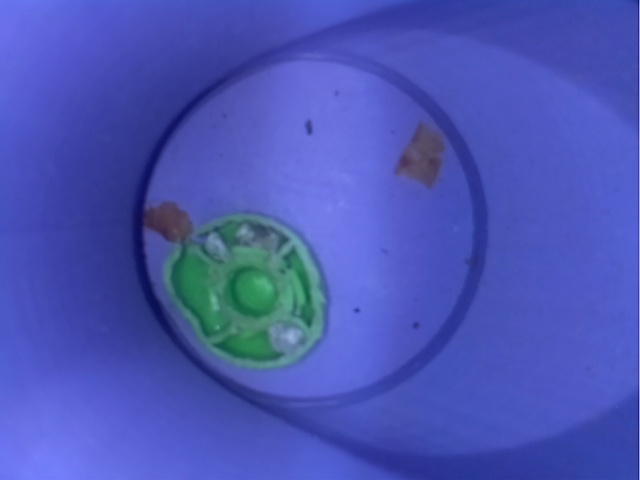bouchon: (150, 206, 354, 377)
